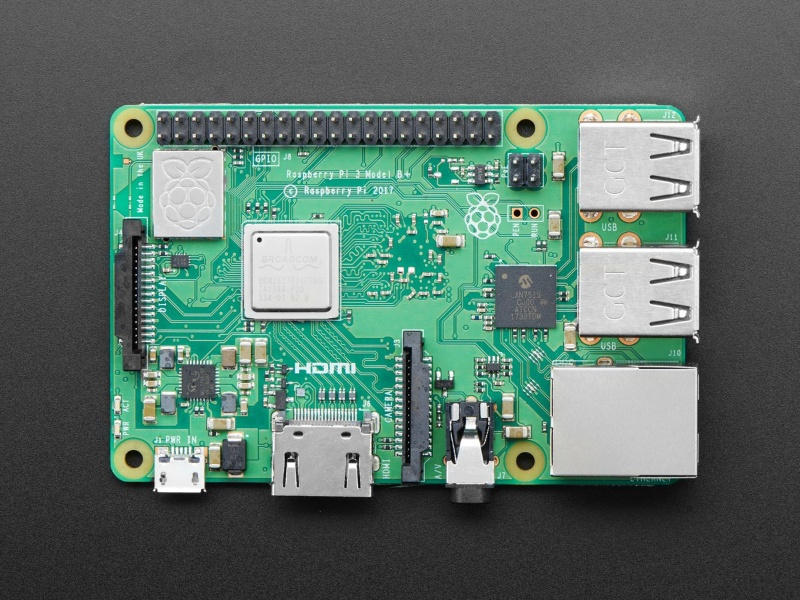raspberrypi: (97, 80, 723, 494)
